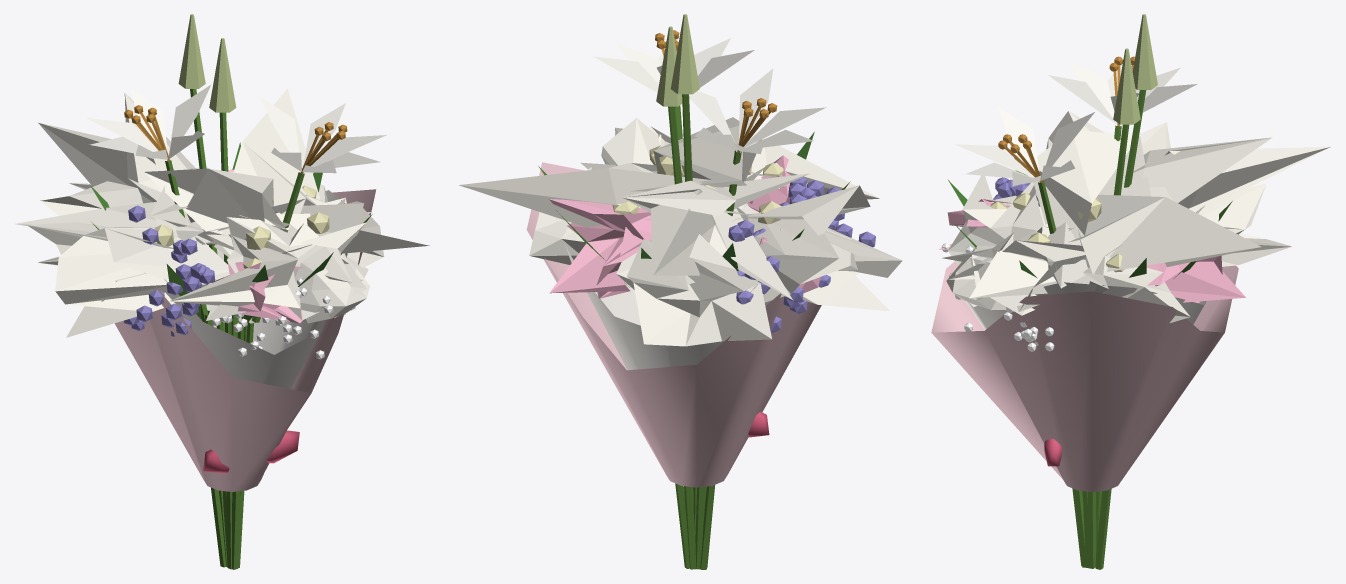
File: ramo.glb
3 renders of one model, left to right at view 1: azimuth 30°, elevation 25°; view 2: azimuth 150°, elevation 25°; view 3: azimuth 270°, elevation 25°, orthographic. The views are drawn at different scales.
Parts seen in each view (by area): view 1: crisantemo_blanco, papel, lirio, papel2, tallo, limonium, boton, estambre, centro, crisantemo_rosa, paniculata, hoja (+1 smaller); view 2: crisantemo_blanco, papel, crisantemo_rosa, lirio, tallo, papel2, limonium, boton, centro, estambre, hoja; view 3: crisantemo_blanco, papel, lirio, tallo, crisantemo_rosa, boton, papel2, estambre, centro, paniculata, hoja.
Boxes of the visible parts, box(x1,y1,x2,y2) form: crisantemo_blanco: box(15, 89, 429, 337); papel: box(114, 189, 376, 491); lirio: box(86, 84, 386, 173); papel2: box(164, 190, 347, 388); tallo: box(165, 89, 304, 569); limonium: box(124, 205, 215, 336); boton: box(178, 14, 236, 112); estambre: box(124, 105, 347, 173); centro: box(154, 185, 329, 268); crisantemo_rosa: box(211, 169, 304, 323); paniculata: box(211, 277, 355, 359); hoja: box(90, 142, 372, 322); crisantemo_blanco: box(458, 117, 902, 346); papel: box(526, 162, 837, 487); crisantemo_rosa: box(549, 155, 820, 298); lirio: box(593, 38, 826, 154); tallo: box(668, 94, 741, 569); papel2: box(555, 167, 771, 370); limonium: box(728, 177, 875, 332); boton: box(656, 14, 699, 106); centro: box(612, 145, 783, 230); estambre: box(655, 30, 777, 152); hoja: box(538, 131, 850, 287); crisantemo_blanco: box(942, 111, 1331, 323); papel: box(931, 261, 1238, 492); lirio: box(955, 60, 1197, 185); tallo: box(1038, 90, 1146, 569); crisantemo_rosa: box(938, 199, 1245, 302); boton: box(1113, 14, 1157, 124); papel2: box(965, 275, 1206, 330); estambre: box(998, 56, 1134, 182); centro: box(990, 193, 1124, 272); paniculata: box(941, 243, 1054, 351); hoja: box(948, 158, 1232, 278).
Size of the model in its own units: 0.4464 by 0.6956 by 0.4635.
